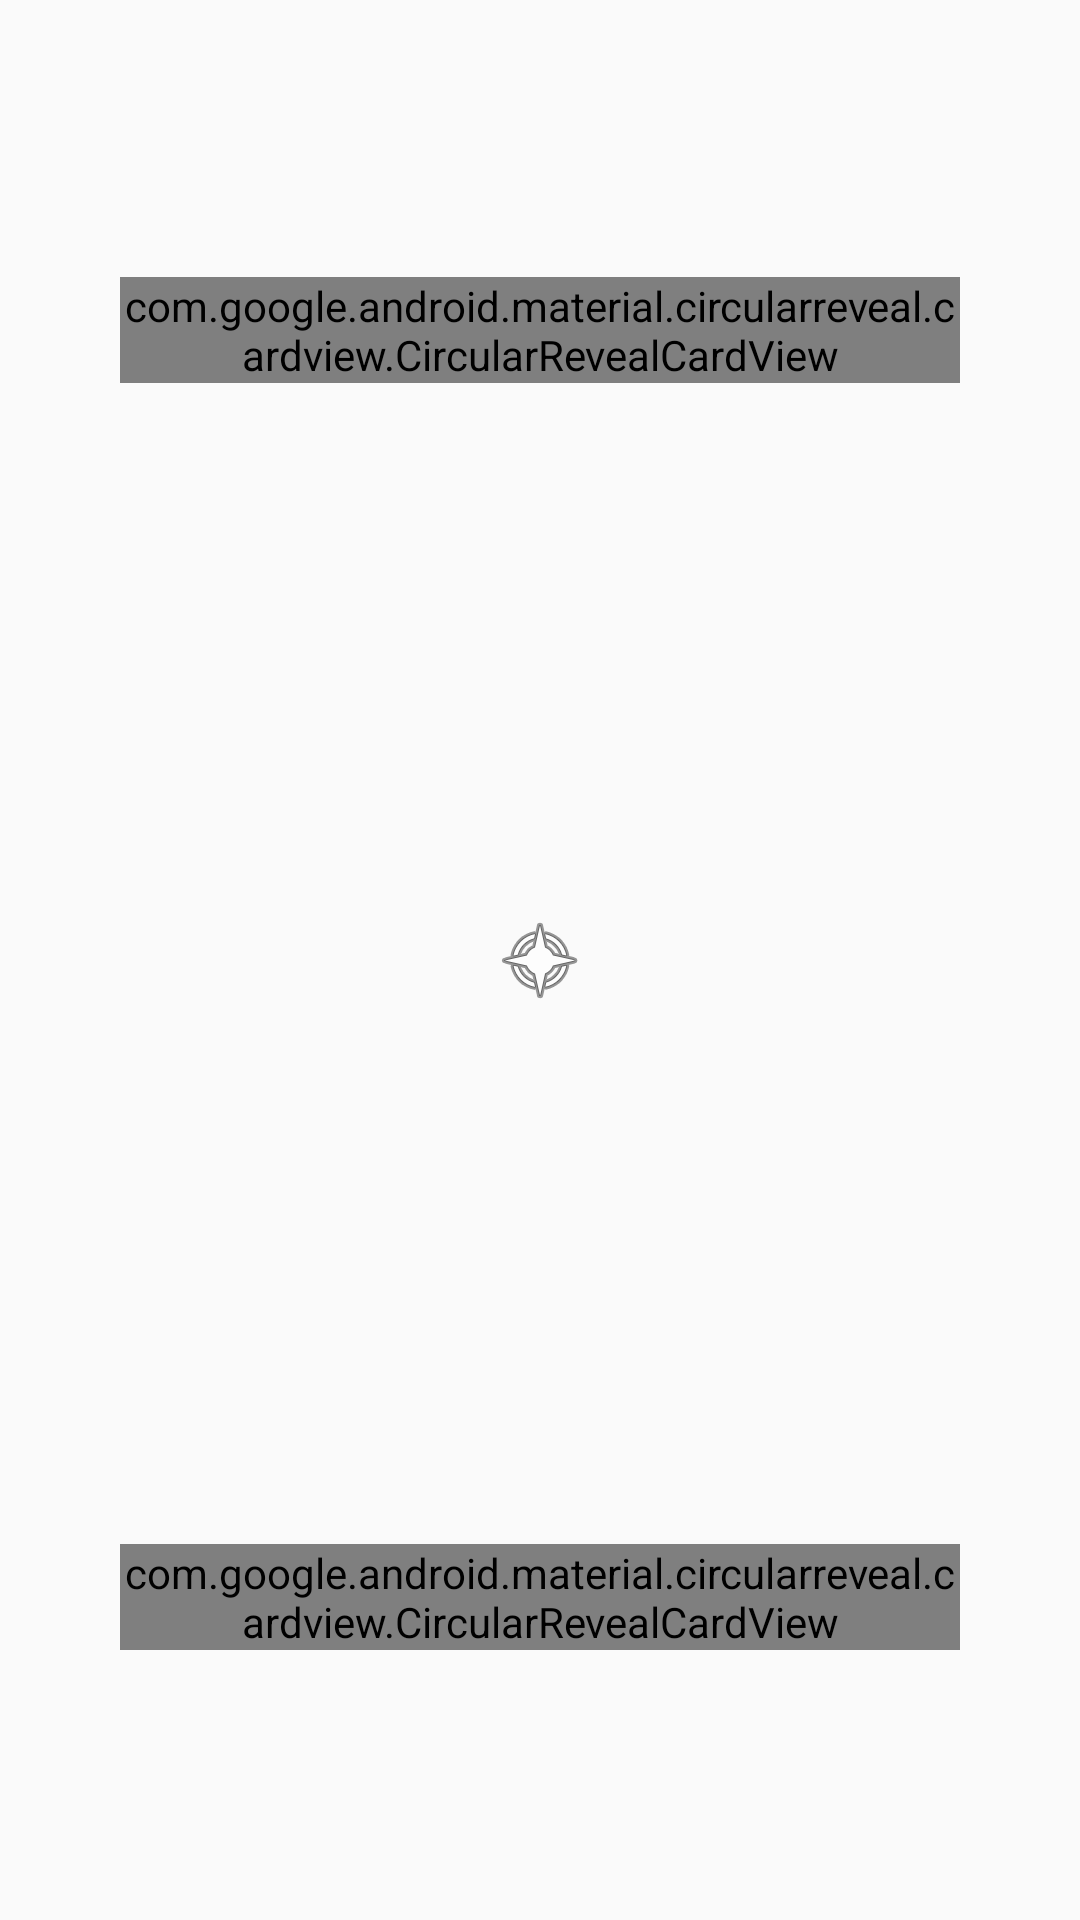

Icon bounding boxes for this 1080w x 1920h phone screenshot, format (x1, y1, x2, y2):
compass: (502, 923, 578, 998)
